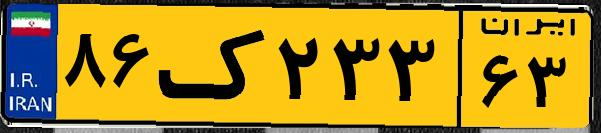2: (270, 28, 330, 110)
3: (385, 28, 445, 110), (330, 28, 385, 110), (525, 38, 570, 115)
6: (475, 38, 525, 113), (110, 28, 158, 98)
8: (57, 26, 110, 100)
ک: (158, 12, 270, 120)
